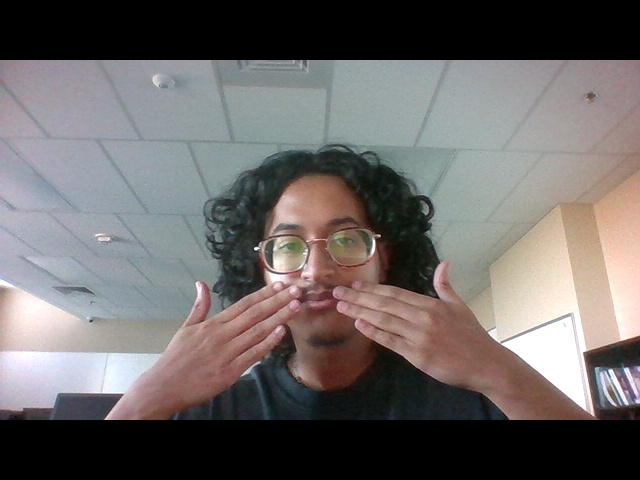thanks: (151, 259, 512, 400)
